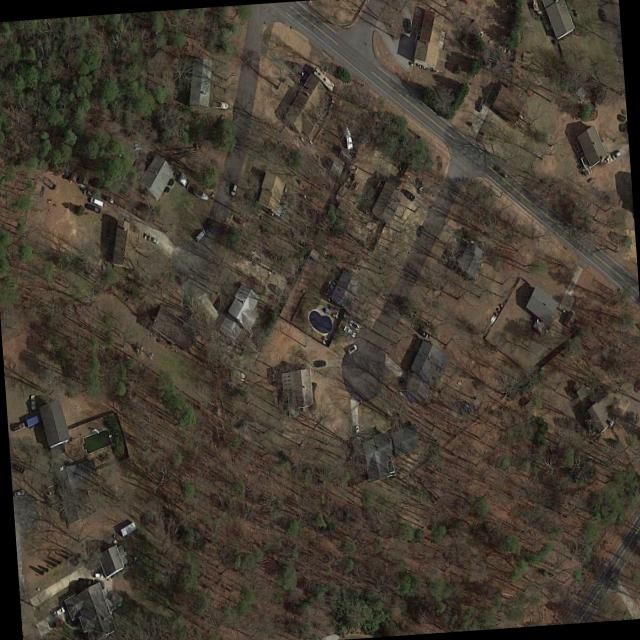ship: (341, 125, 352, 150), (190, 187, 209, 201), (210, 100, 229, 110)
small-vehicle: (491, 164, 508, 180), (413, 325, 428, 339), (83, 202, 100, 214), (341, 325, 356, 338), (474, 96, 486, 112), (401, 189, 415, 202), (414, 178, 424, 195), (193, 229, 206, 242), (50, 606, 64, 618), (346, 319, 359, 331), (9, 422, 24, 432), (145, 234, 158, 245), (89, 197, 103, 207), (414, 224, 424, 238), (344, 343, 356, 354), (233, 216, 244, 226), (102, 195, 114, 204), (404, 18, 411, 33), (12, 489, 25, 497), (229, 183, 237, 196), (312, 360, 325, 368), (610, 150, 620, 160), (51, 619, 62, 628), (29, 394, 35, 409), (632, 381, 640, 392), (81, 188, 91, 196), (353, 425, 359, 438), (92, 573, 102, 578)
